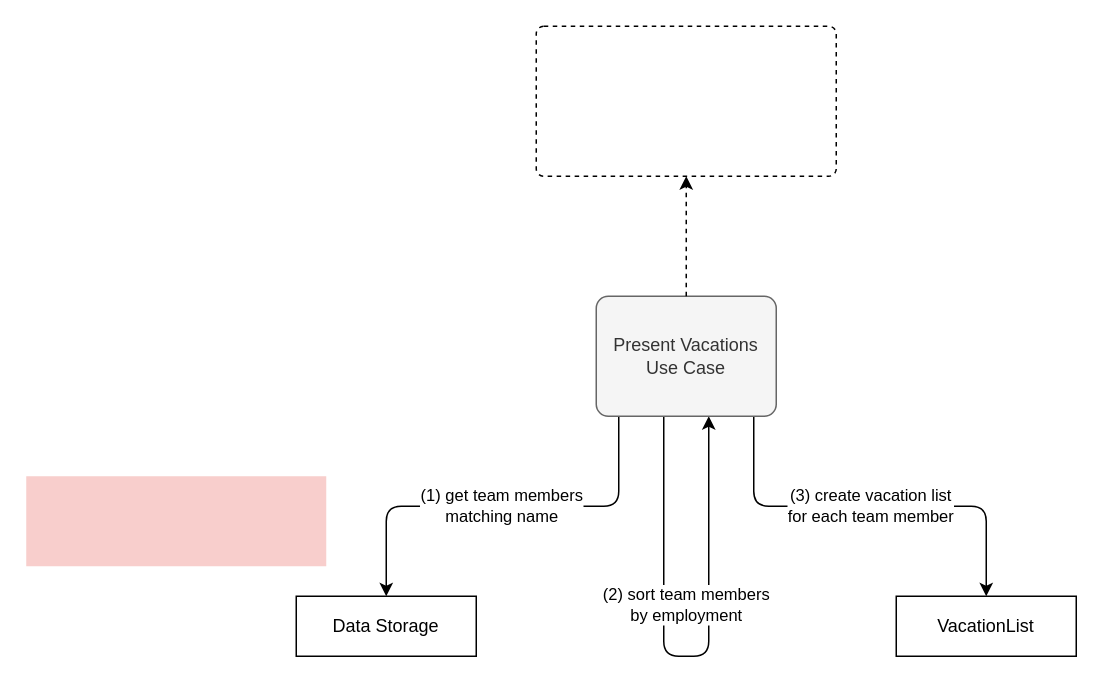
This 1103x695 diagram has some shape labels left out. The shapes that lost their labels are listed below. From the top down, each one's centre as x and y in pixels, then its label:
At (x=685, y=100): "Response VacationList: List TeamMemberName: string".
At (x=176, y=521): "(1) DataAccessException".
